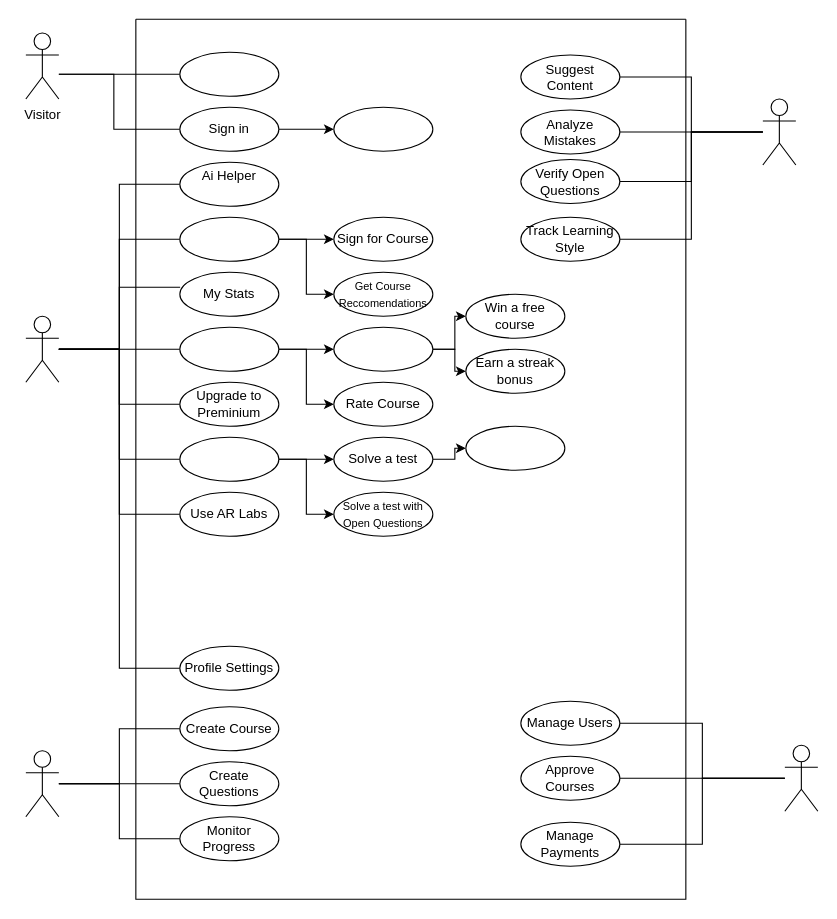
Image size: 837x919. Some labels were removed from this diagram. Here are the shapes that lost their labels. From the top down, the centre of each, then its label:
point 229,73: Sign Up
point 383,128: Verify Account
point 779,131: AI Engine
point 229,238: View Courses
point 42,348: Student
point 229,348: My Courses
point 383,348: View Leaderboard
point 229,458: Take AI Quizes
point 515,447: Solve Practice (Progressive Levels)
point 42,783: Teacher
point 801,777: Admin
